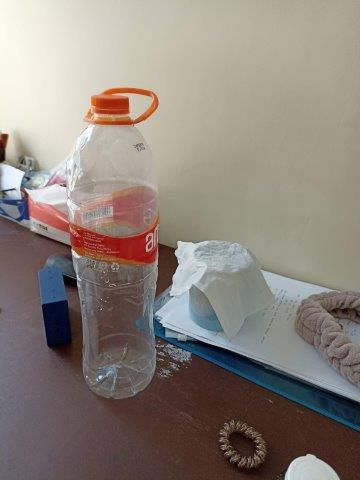botolplastik: (67, 97, 158, 397)
